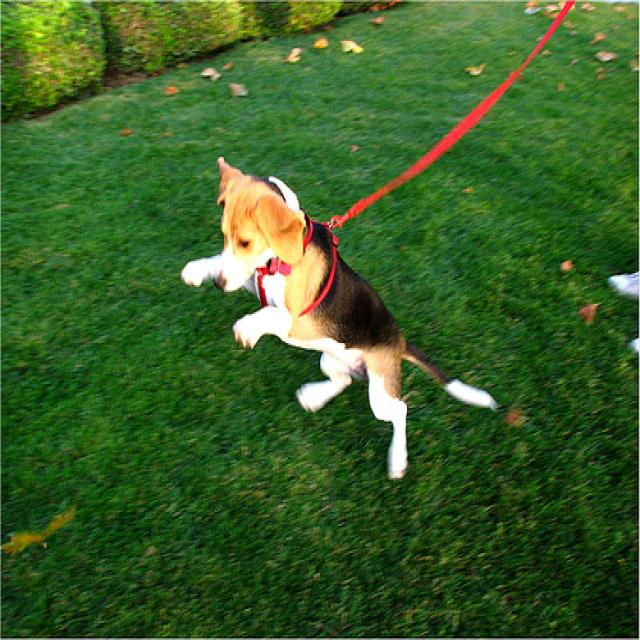dog-beagle: (178, 155, 500, 480)
